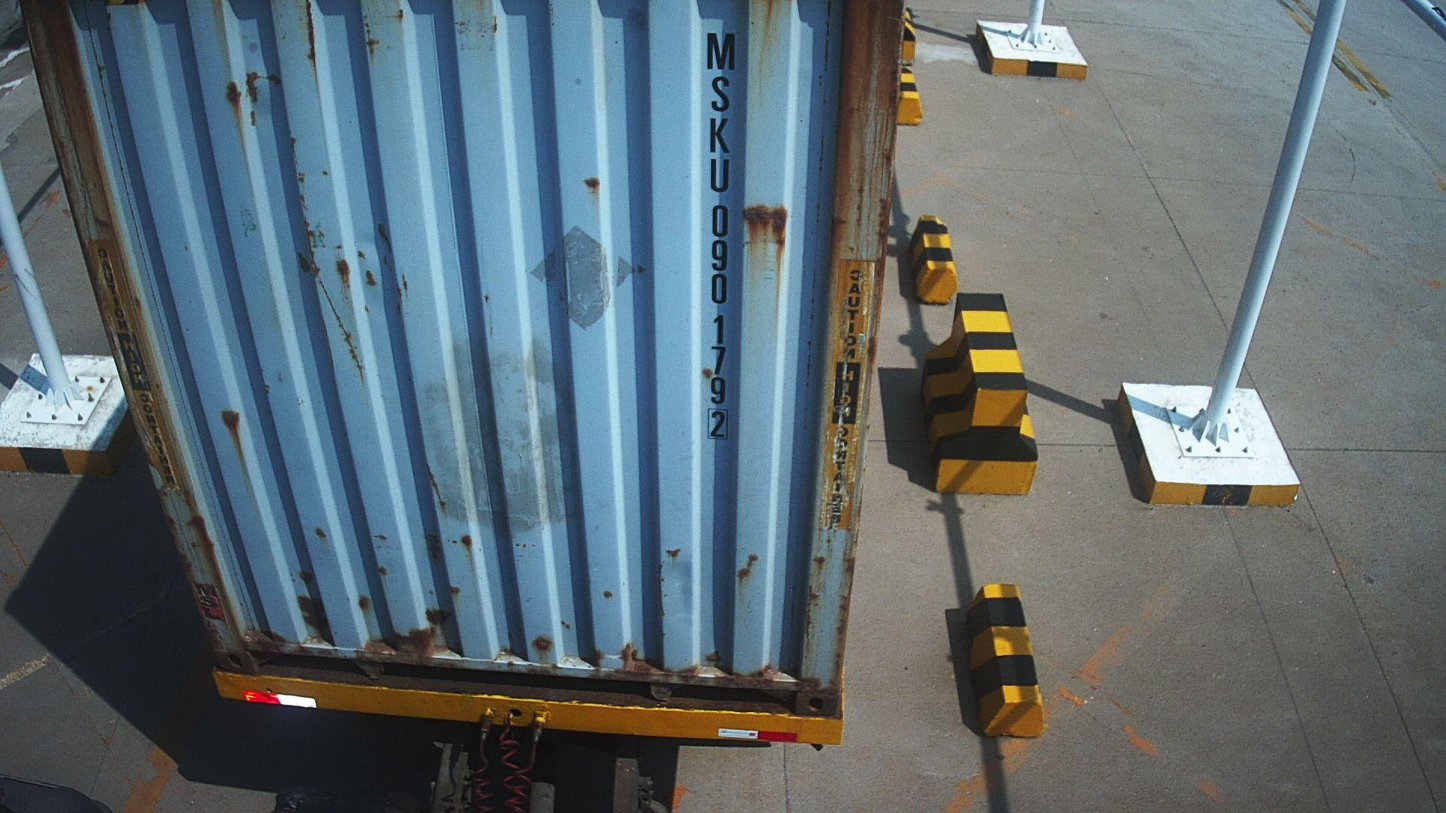container-numbers: (695, 23, 738, 446)
